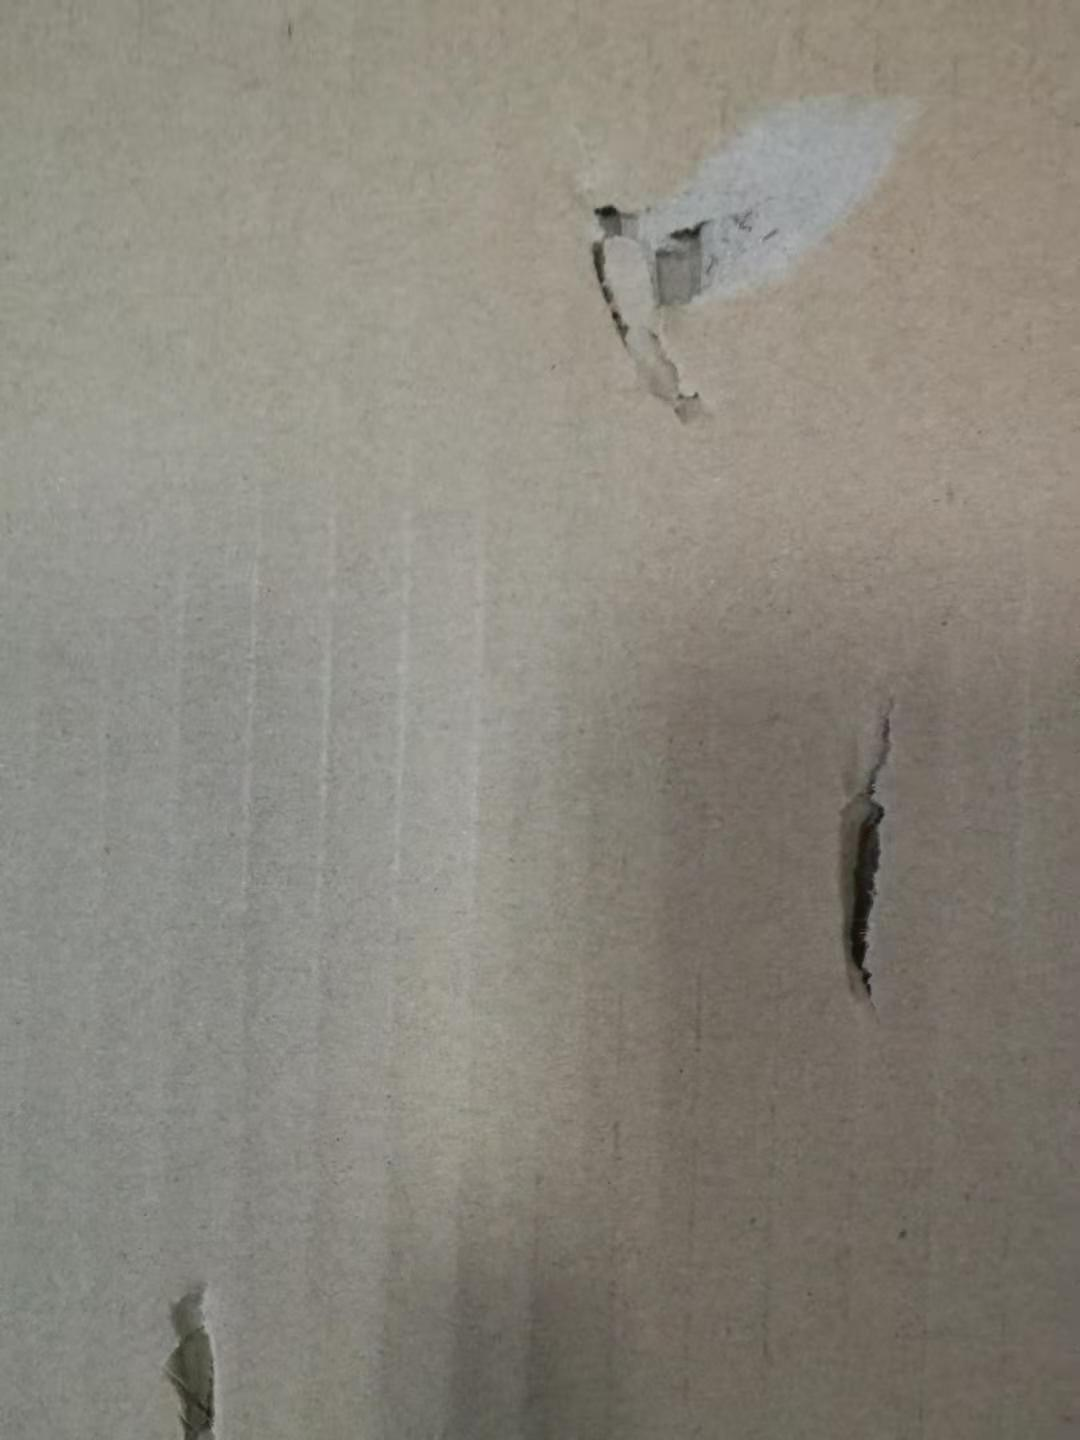defect: (525, 62, 950, 459), (775, 679, 957, 1035), (119, 1255, 267, 1440)
